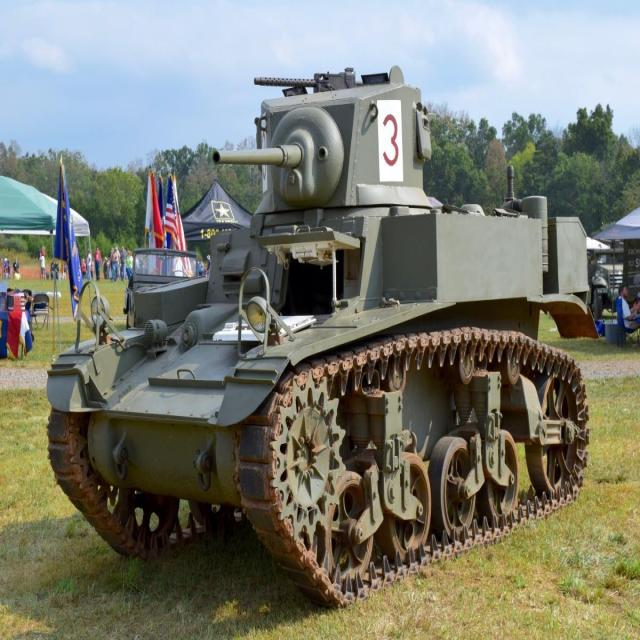Tanks: (47, 65, 592, 616)
